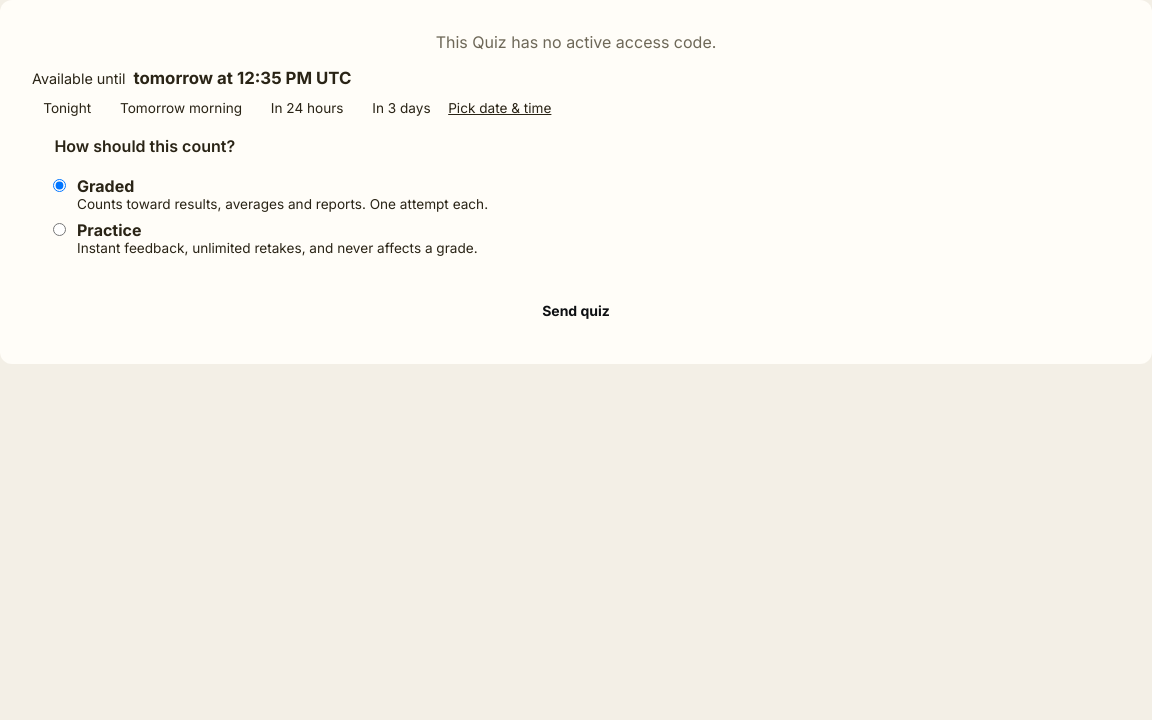
AccessCodesTab PIN gate › names who needs a PIN, generates the missing ones, and shows the sheet once
Expected: the text "This Quiz has no active access code." is shown, [436, 32, 716, 52]
Click the button "Send quiz".
click(576, 310)  # box [518, 288, 634, 332]
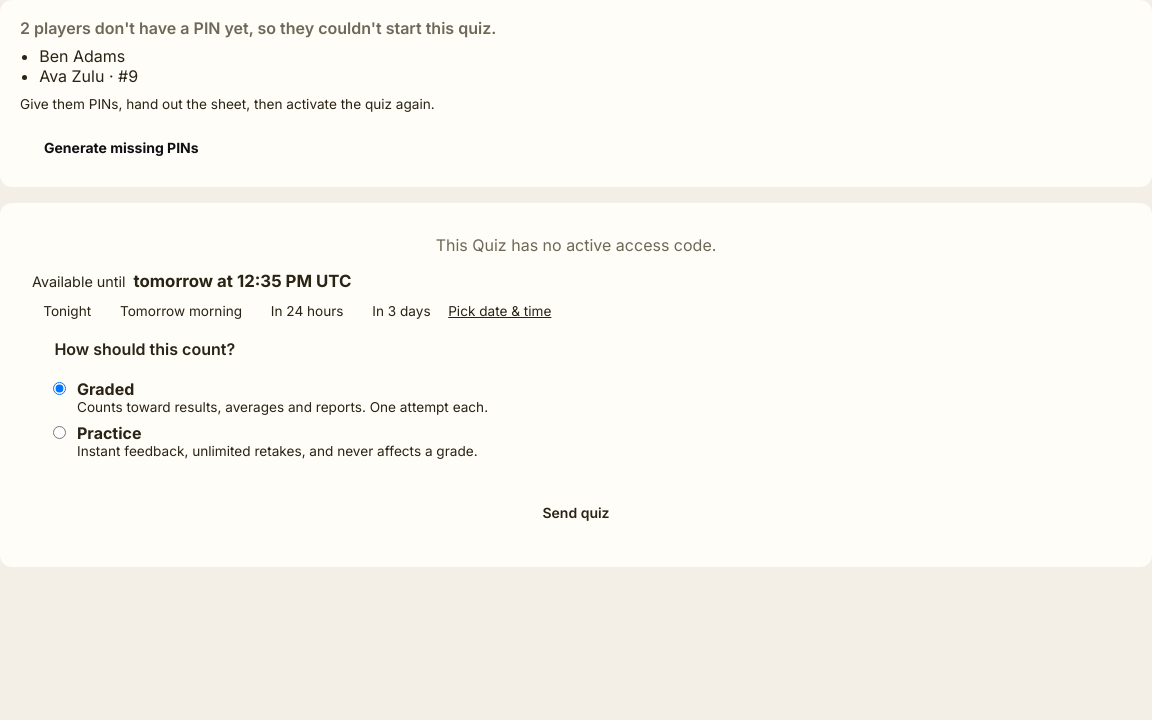
Result: the message shows "2 players don't have a PIN yet" at [20, 18, 496, 38]
Result: the message shows "Ben Adams" at [39, 46, 125, 66]
Result: the message shows "Ava Zulu · #9" at [0, 0, 1151, 187]
Click the button "Generate missing PINs".
click(121, 147)  # box [20, 125, 223, 169]
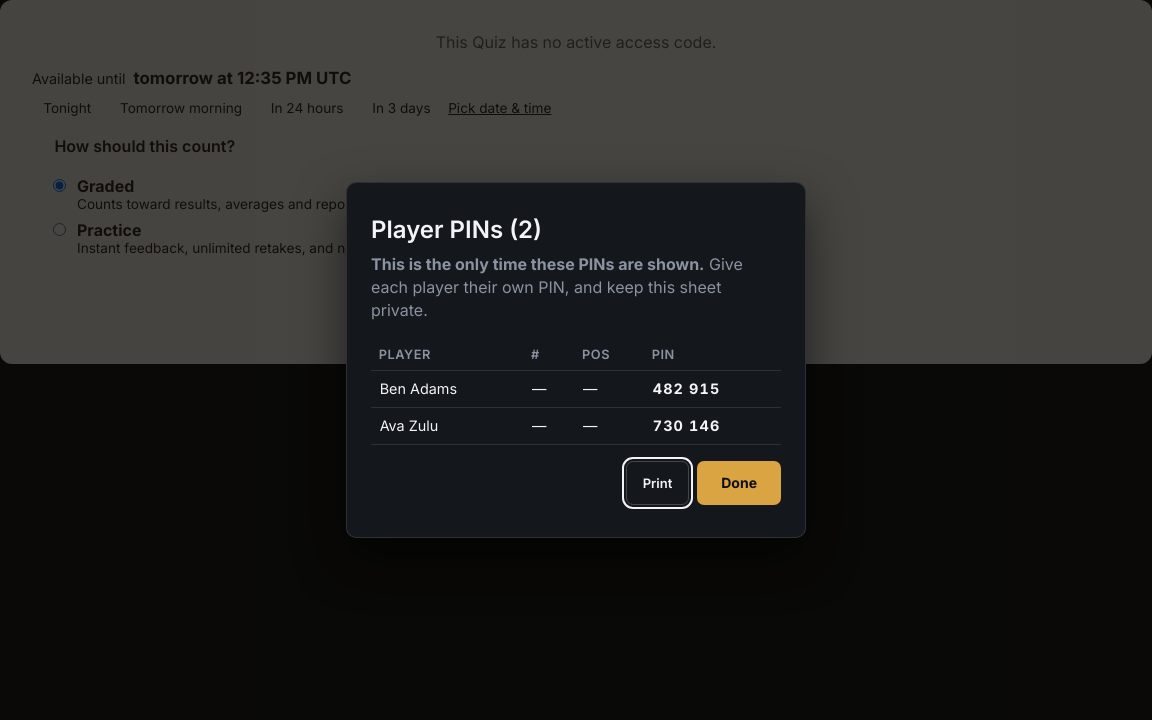
Result: the text "482 915" is shown at [644, 371, 781, 407]
Result: the text "730 146" is shown at [644, 407, 781, 444]
Result: the message "2 players don't have a PIN yet, so they couldn't start this quiz. Ben Adams Ava" is gone
